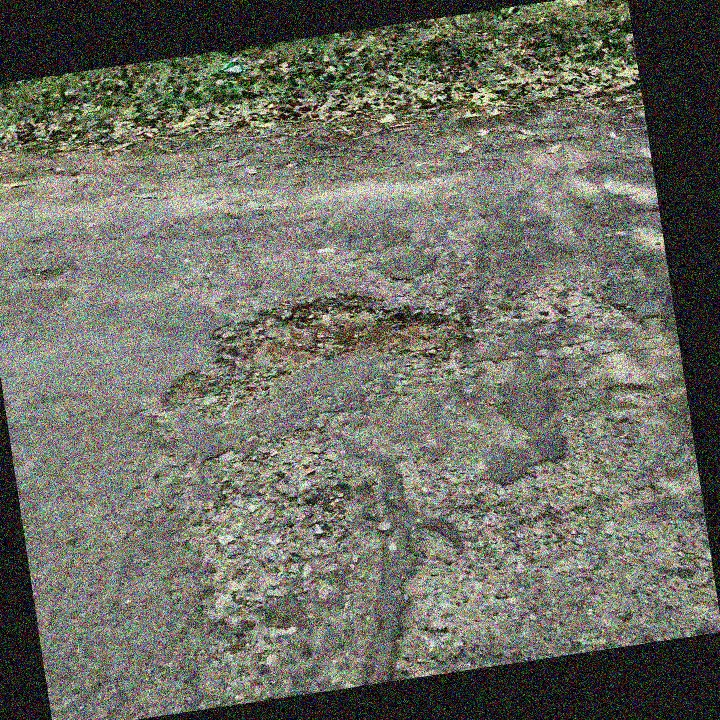pothole: (145, 268, 480, 423)
